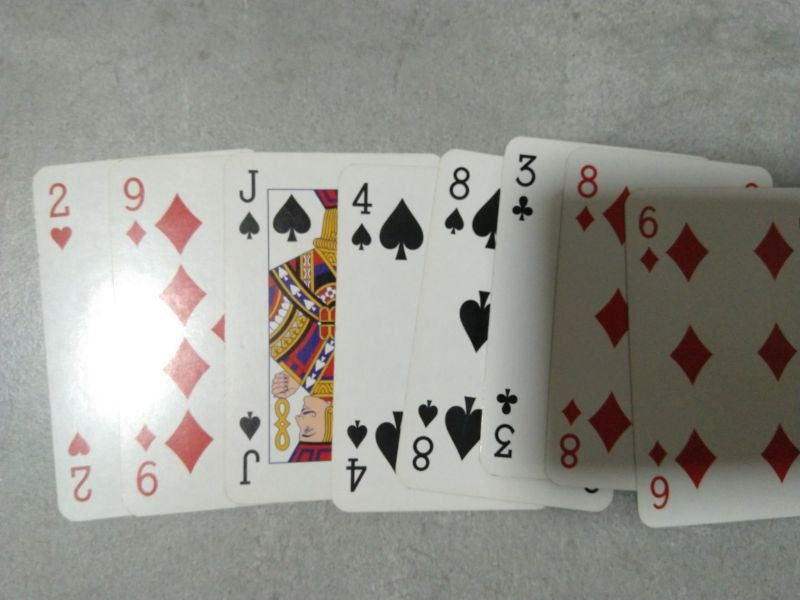2h: (44, 178, 78, 253), (65, 429, 97, 505)
3c: (511, 148, 543, 227), (490, 385, 522, 463)
4s: (342, 416, 374, 495), (348, 177, 375, 253)
6d: (637, 200, 664, 277), (647, 435, 671, 516)
8d: (574, 158, 603, 234), (558, 394, 585, 474)
8s: (409, 396, 442, 476), (441, 163, 474, 239)
9d: (117, 171, 151, 250), (130, 418, 163, 499)
Js: (233, 164, 264, 243), (235, 406, 264, 489)
